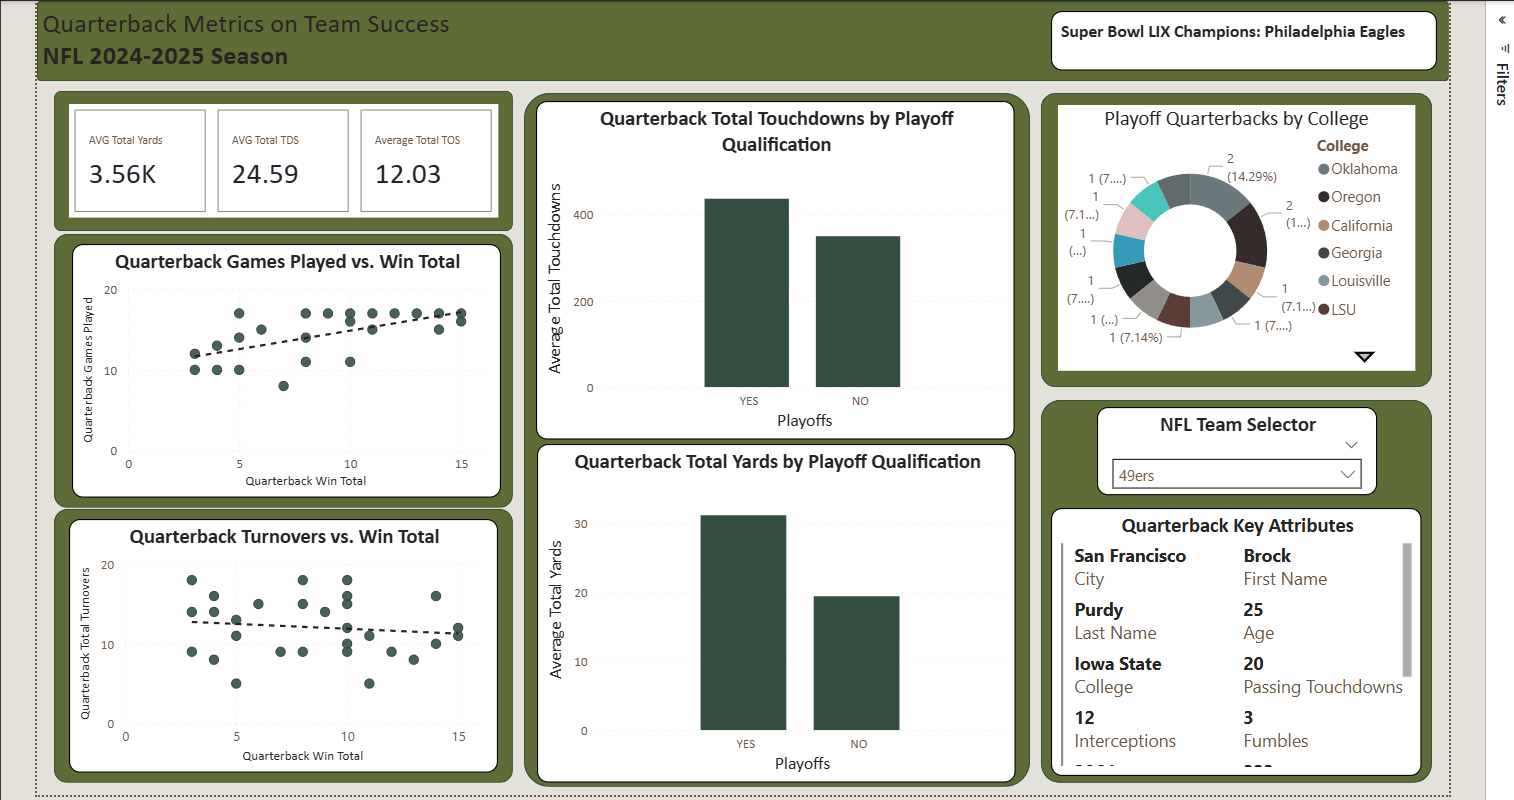

The page's visual inventory and layout, read from the dashboard file:
{"tool":"powerbi","page":{"name":"Page 1","canvas":[1280,720],"ordinal":0},"visuals":[{"type":"shape","box":[441.6,83.4,458.8,629.3],"z":0},{"type":"shape","box":[0,0,1280.4,72.5],"z":1000},{"type":"shape","box":[910.4,361.8,354.6,347.3],"z":2000},{"type":"shape","box":[15.4,460.7,416.2,248.5],"z":3000},{"type":"shape","box":[15.4,211.3,416.2,248.5],"z":4000},{"type":"scatterChart","title":"Quarterback Turnovers vs. Win Total","fields":{"Y":["qb_success_db statistics.total_turnovers"],"X":["qb_success_db team.wins"]},"box":[29,469.7,389,230.3],"z":5000},{"type":"textbox","box":[0,0,452.5,81.6],"z":6000},{"type":"slicer","title":"NFL Team Selector","fields":{"Values":["qb_success_db team.team_name"]},"box":[961.2,368.2,253.9,79.8],"z":7000},{"type":"multiRowCard","title":"Quarterback Key Attributes","fields":{"Values":["qb_success_db team.team_city","qb_success_db player.first_name","qb_success_db player.last_name","qb_success_db player.age","qb_success_db draft.college","qb_success_db statistics.passing_tds","qb_success_db statistics.interceptions","qb_success_db statistics.fumbles","qb_success_db statistics.passing_yards","qb_success_db statistics.rushing_yards","qb_success_db statistics.qb_rating","qb_success_db statistics.rushing_tds"]},"box":[919.5,459.7,336.4,243],"z":8000},{"type":"shape","box":[15.4,81.6,416.2,127],"z":9000},{"type":"shape","box":[910.4,83.4,354.6,266.6],"z":10000},{"type":"cardVisual","fields":{"Data":["qb_success_db statistics.total_yards"]},"box":[29,93.4,129.7,103.4],"z":11000},{"type":"cardVisual","fields":{"Data":["qb_success_db statistics.total_tds"]},"box":[158.7,93.4,129.7,103.4],"z":12000},{"type":"cardVisual","fields":{"Data":["qb_success_db statistics.total_turnovers"]},"box":[288.4,93.4,129.7,103.4],"z":13000},{"type":"columnChart","title":"Quarterback Total Touchdowns by Playoff Qualification","fields":{"Y":["qb_success_db statistics.total_tds"],"Category":["qb_success_db team.playoffs"]},"box":[452.5,90.7,434.4,307.4],"z":14000},{"type":"columnChart","title":"Quarterback Total Yards by Playoff Qualification","fields":{"Y":["qb_success_db statistics.total_tds"],"Category":["qb_success_db team.playoffs"]},"box":[453.4,401.7,434.4,307.4],"z":15000},{"type":"donutChart","title":"Playoff Quarterbacks by College","fields":{"Category":["qb_success_db draft.college"],"Y":["qb_success_db player.player_id"],"Series":["qb_success_db team.playoffs"]},"box":[925.8,94.3,323.7,241.2],"z":16000},{"type":"textbox","box":[919.5,9.1,350,53.5],"z":17000},{"type":"scatterChart","title":"Quarterback Games Played vs. Win Total","fields":{"X":["qb_success_db team.wins"],"Y":["qb_success_db statistics.games_played"]},"box":[31.7,220.4,389,230.3],"z":18000}]}

Visuals, with their boxes in screenshot pixels (x1, y1, x2, y2):
shape: (520,91,1023,781)
shape: (35,0,1439,79)
shape: (1034,397,1422,777)
shape: (52,505,509,777)
shape: (52,232,509,504)
"Quarterback Turnovers vs. Win Total" scatterChart: (67,515,494,767)
textbox: (35,0,532,89)
"NFL Team Selector" slicer: (1089,404,1368,491)
"Quarterback Key Attributes" multiRowCard: (1043,504,1412,770)
shape: (52,89,509,229)
shape: (1034,91,1422,384)
cardVisual - qb_success_db statistics.total_yards: (67,102,209,216)
cardVisual - qb_success_db statistics.total_tds: (209,102,352,216)
cardVisual - qb_success_db statistics.total_turnovers: (352,102,494,216)
"Quarterback Total Touchdowns by Playoff Qualification" columnChart: (532,99,1008,436)
"Quarterback Total Yards by Playoff Qualification" columnChart: (533,440,1009,777)
"Playoff Quarterbacks by College" donutChart: (1050,103,1405,368)
textbox: (1043,10,1427,69)
"Quarterback Games Played vs. Win Total" scatterChart: (70,242,497,494)
